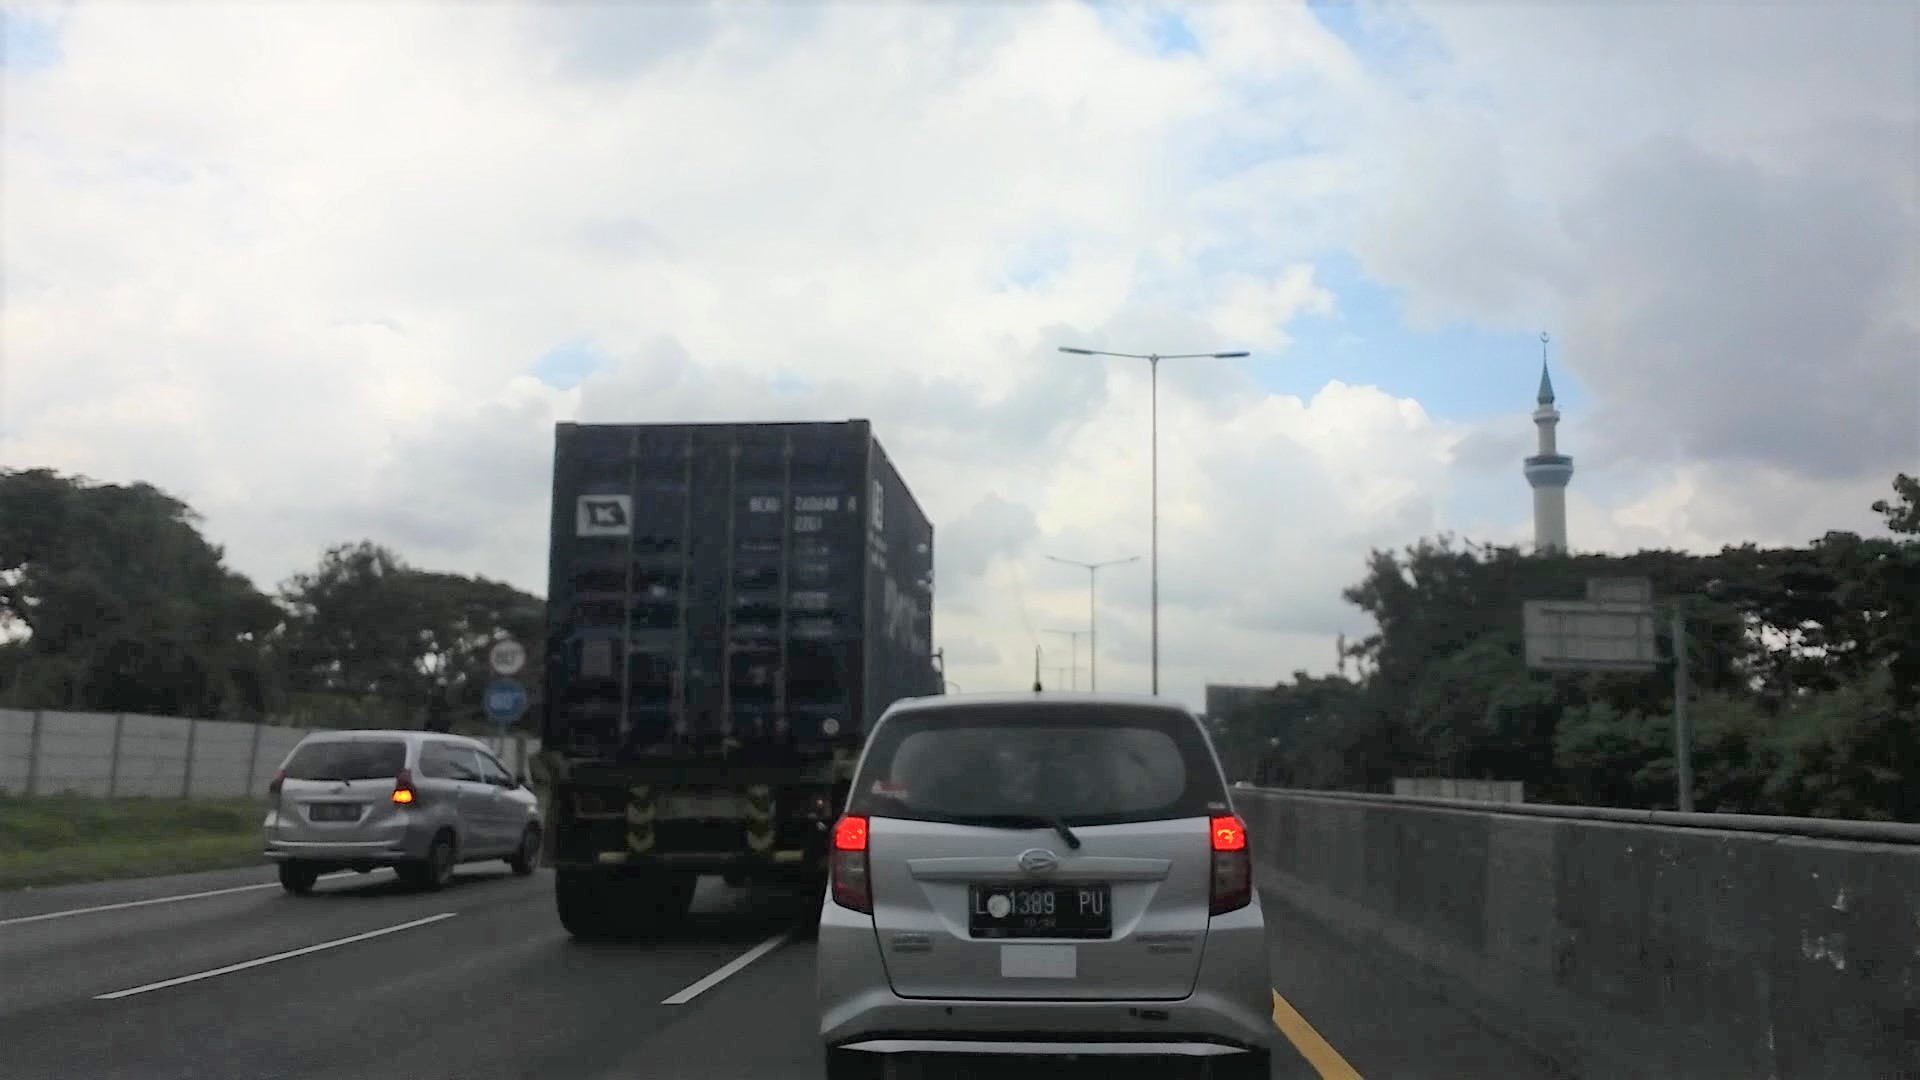plate_positive: (969, 882, 1113, 940)
